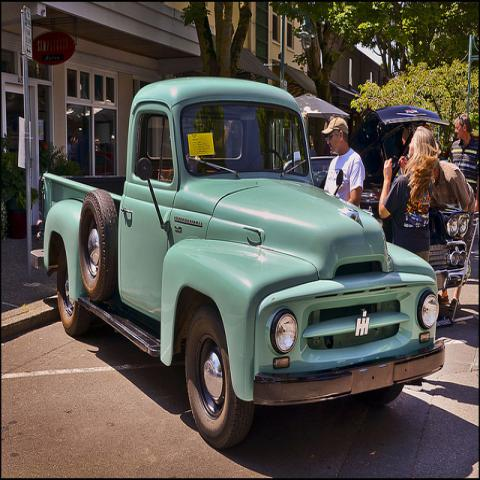car: (350, 104, 450, 222), (310, 155, 338, 190)
truck: (30, 77, 446, 450)
